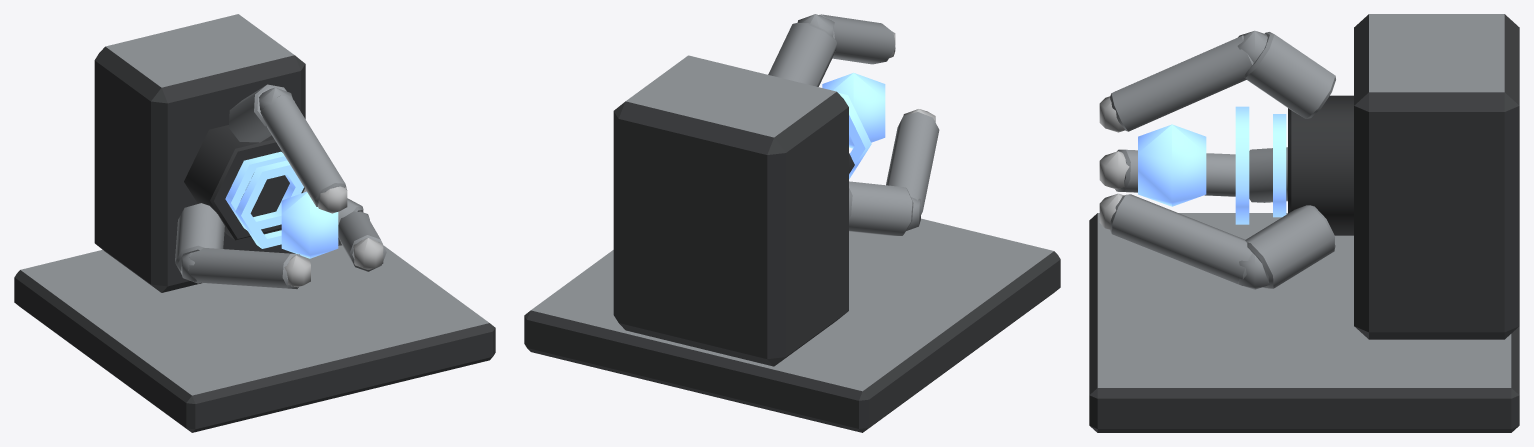
Rendered from R4X_DirectionalEMP_LOD1.fbx.
The picture shows the model from 3 angles, left to right: view 1: azimuth 30°, elevation 25°; view 2: azimuth 150°, elevation 25°; view 3: azimuth 270°, elevation 25°; orthographic projection. The views are drawn at different scales.
Visible parts, largest first — view 1: R4X_DirectionalEMP_LOD1; view 2: R4X_DirectionalEMP_LOD1; view 3: R4X_DirectionalEMP_LOD1.
Boxes of the visible parts, x1,y1,x2,y2 form: R4X_DirectionalEMP_LOD1: (14,14,495,432); R4X_DirectionalEMP_LOD1: (524,14,1060,432); R4X_DirectionalEMP_LOD1: (1089,14,1519,432).
Bounding box in the file's own units: 0.52 × 0.42 × 0.52.
